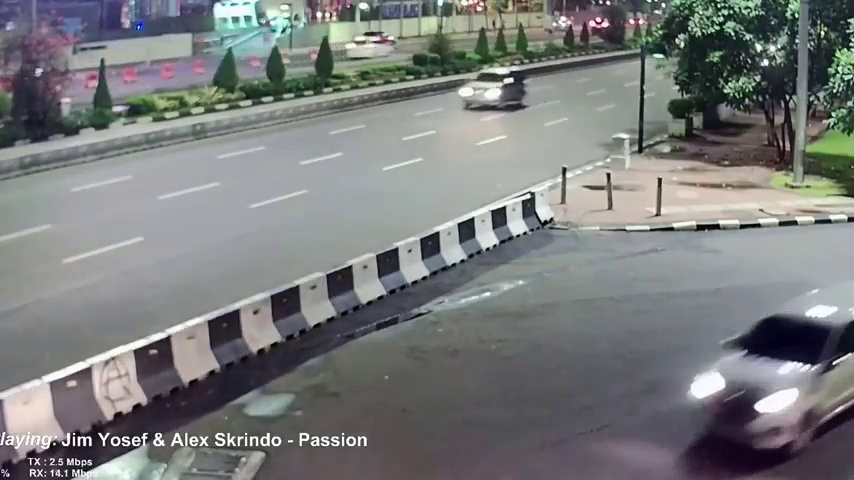car: (689, 282, 854, 451), (461, 67, 526, 112), (350, 35, 392, 61)
